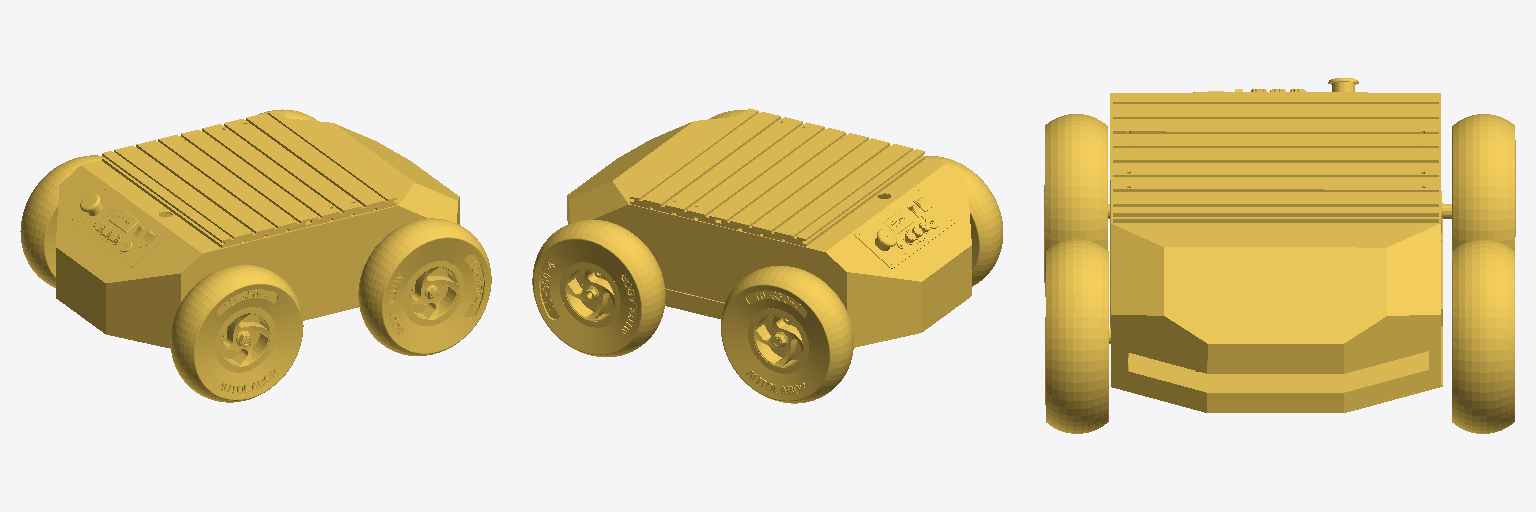
URDF robot description (autolabor_description):
<robot name="autolabor_description">
  <link name="base_link">
    <visual>
      <origin
        xyz="-0.363 0.3085 0.2883"
        rpy="0. 1.57 -1.57" />
      <geometry>
        <mesh
          filename="package://autolabor_description/meshes/autolabor_pro1.stl" scale="0.001 0.001 0.001"/>
      </geometry>
      <material
        name="">
        <color
          rgba="0.96 0.81 0.36 1" />
      </material>
    </visual>
  </link>
</robot>

--- What the picture shows (computed from the rendered views, not written in the file) ---
Views: 3 orthographic renders of the robot side by side, from view 1: azimuth 30°, elevation 25°; view 2: azimuth 150°, elevation 25°; view 3: azimuth 270°, elevation 25°.
Model autolabor_description with 1 links and 0 joints (none), rooted at base_link, posed every joint at zero.
Visible links, largest first — view 1: base_link; view 2: base_link; view 3: base_link.
Link boxes in pixels (x1,y1,x2,y2): base_link: (20,109,491,402); base_link: (532,108,1002,403); base_link: (1044,78,1515,433).
Size in the robot's own frame: 0.7261 by 0.6133 by 0.2912 metres.
1 mesh visuals loaded from 1 distinct referenced files (1 binary STL).